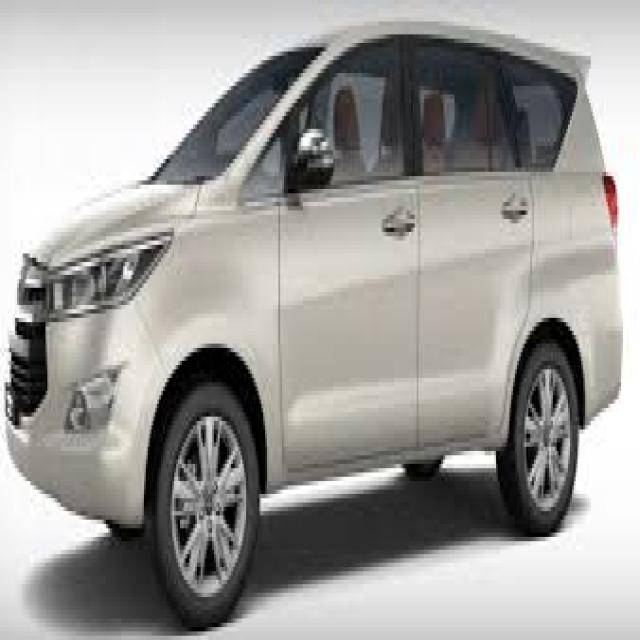light_vehicle: (5, 21, 624, 629)
